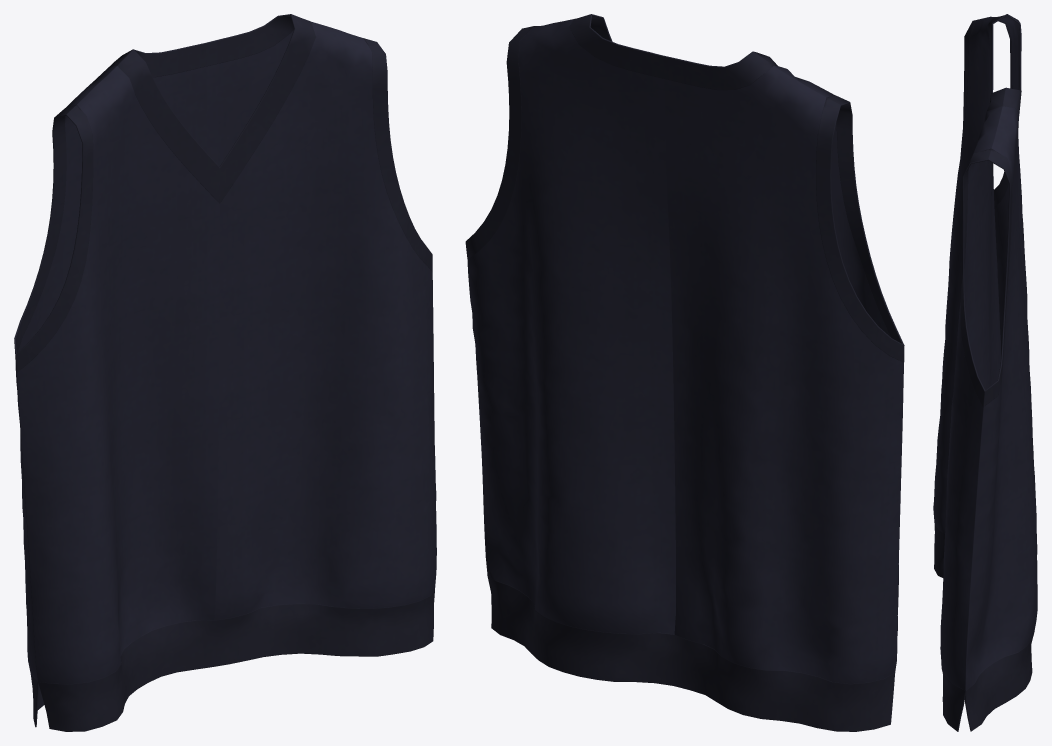
The model's file is FLG_13_08_3.fbx.
3 renders of one model, left to right at view 1: azimuth 30°, elevation 25°; view 2: azimuth 150°, elevation 25°; view 3: azimuth 270°, elevation 25°, orthographic. The views are drawn at different scales.
Parts seen in each view (by area): view 1: FLG_13_08_3; view 2: FLG_13_08_3; view 3: FLG_13_08_3.
Boxes of the visible parts, x1=… form: FLG_13_08_3: x1=14, y1=14, x2=436, y2=731; FLG_13_08_3: x1=465, y1=14, x2=904, y2=731; FLG_13_08_3: x1=933, y1=14, x2=1037, y2=731.
Bounding box in the file's own units: 49.67 × 72.34 × 11.52.
